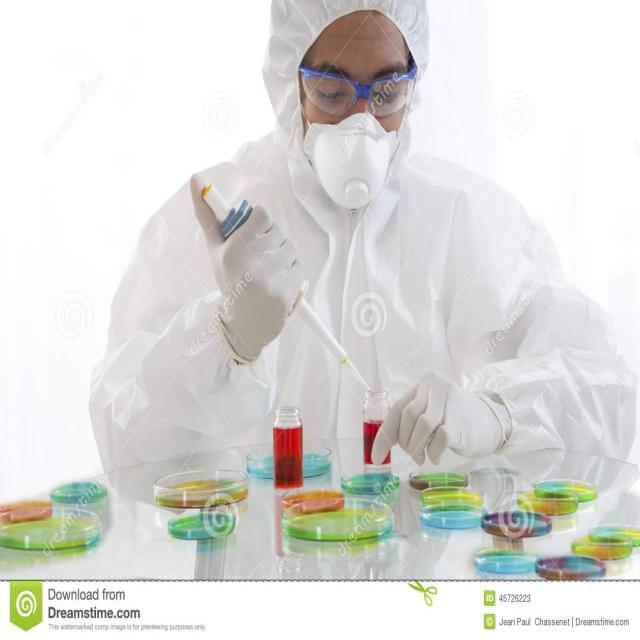Coverall: (91, 1, 637, 465)
Gloves: (189, 172, 305, 363), (372, 371, 510, 466)
Goggles: (299, 63, 422, 121)
Mask: (305, 112, 399, 212)
